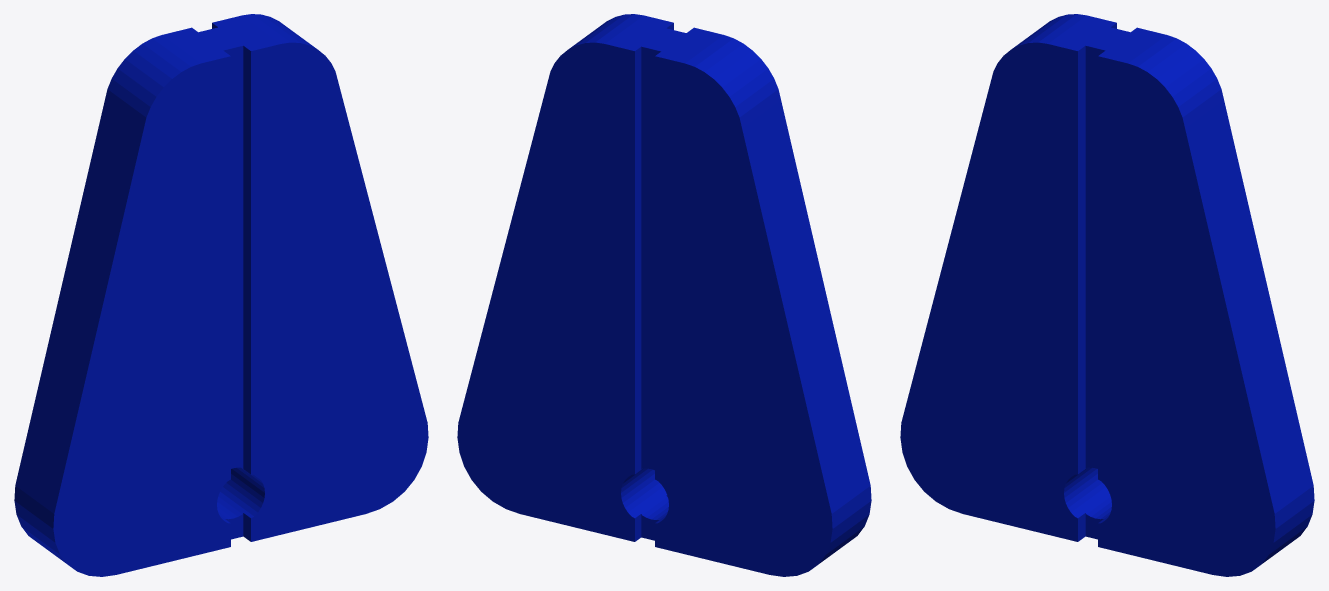
The model's file is TowerModel_KeyModel.fbx.
The picture shows the model from 3 angles, left to right: view 1: azimuth 30°, elevation 25°; view 2: azimuth 150°, elevation 25°; view 3: azimuth 330°, elevation 25°; orthographic projection.
Visible parts, largest first — view 1: console keyhole.001; view 2: console keyhole.001; view 3: console keyhole.001.
Part boxes in pixels (left/top/right/bottom): console keyhole.001: left=14, top=14, right=428, bottom=576; console keyhole.001: left=457, top=14, right=871, bottom=576; console keyhole.001: left=900, top=14, right=1314, bottom=576.
Size of the model in its own units: 53.63 by 67.05 by 9.65.
